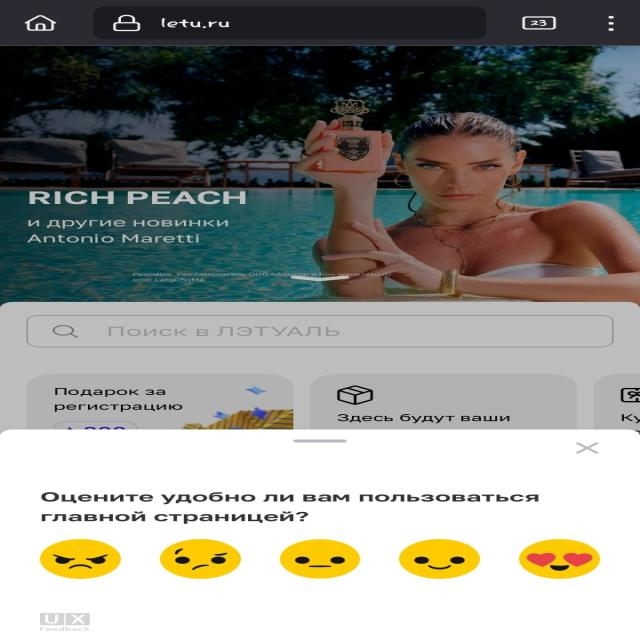button: (570, 439, 602, 456)
site: (0, 430, 640, 640)
